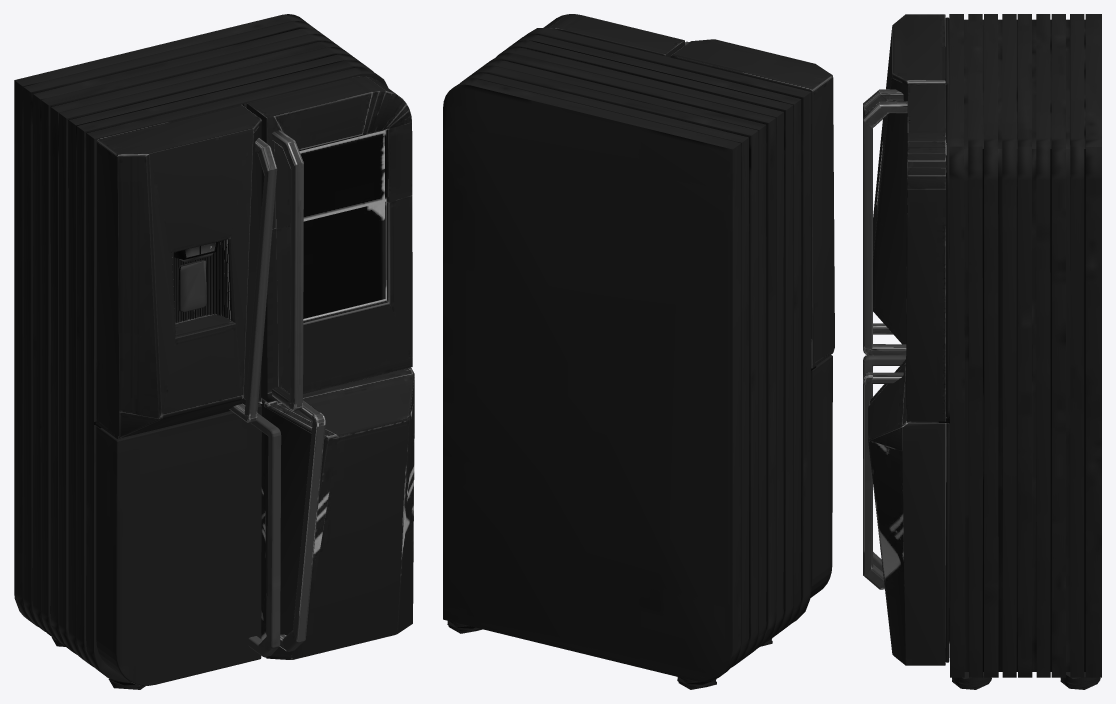
The model's file is fit-fridge.glb.
The picture shows the model from 3 angles, left to right: view 1: azimuth 30°, elevation 25°; view 2: azimuth 150°, elevation 25°; view 3: azimuth 270°, elevation 25°; orthographic projection. The views are drawn at different scales.
Parts seen in each view (by area): view 1: object 12, object 5; view 2: object 5, object 12; view 3: object 5, object 12, Cylinder.008, Cylinder.005.
Part boxes in pixels (x1,y1,x2,y2): object 12: (96,76,414,685); object 5: (14,14,388,682); object 5: (443,28,811,681); object 12: (543,14,834,597); object 5: (949,14,1101,677); object 12: (863,14,949,665); Cylinder.008: (1060,672,1100,689); Cylinder.005: (952,672,991,689).
Size of the model in its own units: 1.42 by 2.55 by 1.03.
35 materials, 27 textured.
